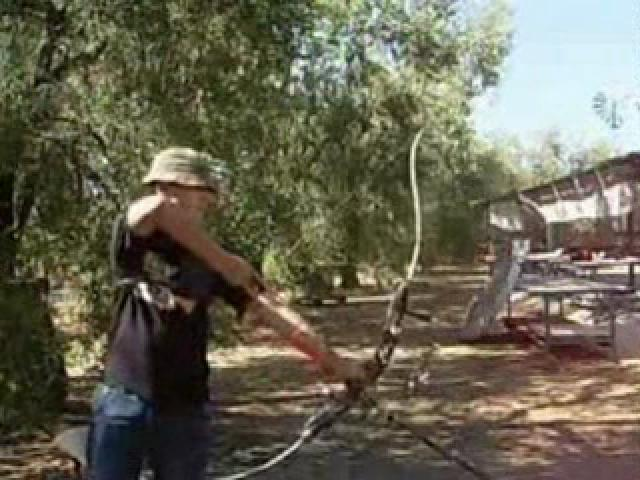I: (72, 142, 364, 480)
